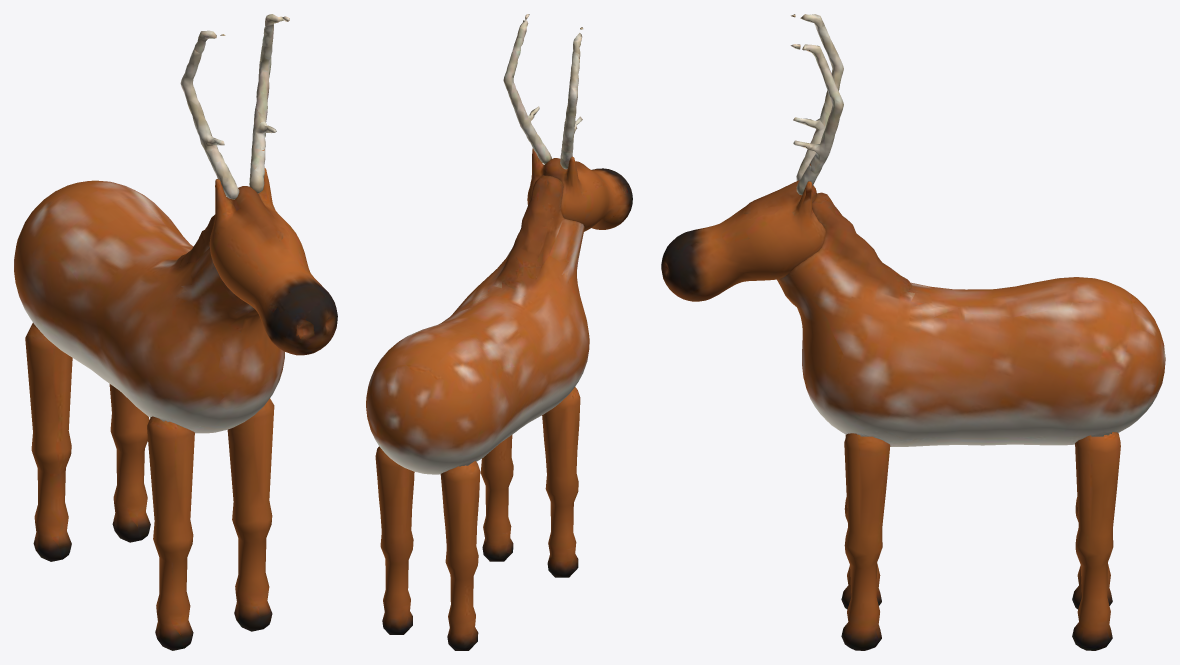
The model's file is animal_spotted_deer.glb.
The picture shows the model from 3 angles, left to right: view 1: azimuth 30°, elevation 25°; view 2: azimuth 150°, elevation 25°; view 3: azimuth 270°, elevation 25°; orthographic projection. The views are drawn at different scales.
Parts seen in each view (by area): view 1: animal_spotted_deer, head, leg0, leg2, leg1, leg3; view 2: animal_spotted_deer, head, leg2, leg0, leg3, leg1; view 3: animal_spotted_deer, head, leg3, leg1.
Part boxes in pixels (left/top/right/bottom): animal_spotted_deer: left=14, top=180, right=284, bottom=433; head: left=180, top=14, right=337, bottom=355; leg0: left=147, top=416, right=194, bottom=650; leg2: left=25, top=323, right=72, bottom=561; leg1: left=227, top=398, right=274, bottom=631; leg3: left=109, top=384, right=150, bottom=542; animal_spotted_deer: left=366, top=174, right=589, bottom=474; head: left=503, top=14, right=632, bottom=231; leg2: left=440, top=461, right=480, bottom=650; leg0: left=542, top=387, right=580, bottom=577; leg3: left=375, top=446, right=414, bottom=634; leg1: left=480, top=435, right=513, bottom=561; animal_spotted_deer: left=777, top=192, right=1165, bottom=446; head: left=661, top=14, right=843, bottom=301; leg3: left=1072, top=432, right=1120, bottom=650; leg1: left=841, top=433, right=890, bottom=650.
Size of the model in its own units: 0.1592 by 0.6673 by 0.5037.
Materials: 1 (1 with a texture image).
